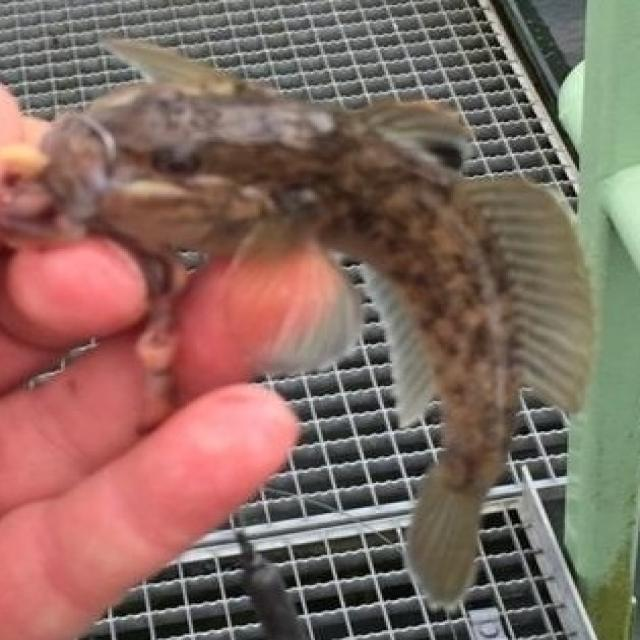Goby: (0, 27, 575, 615)
